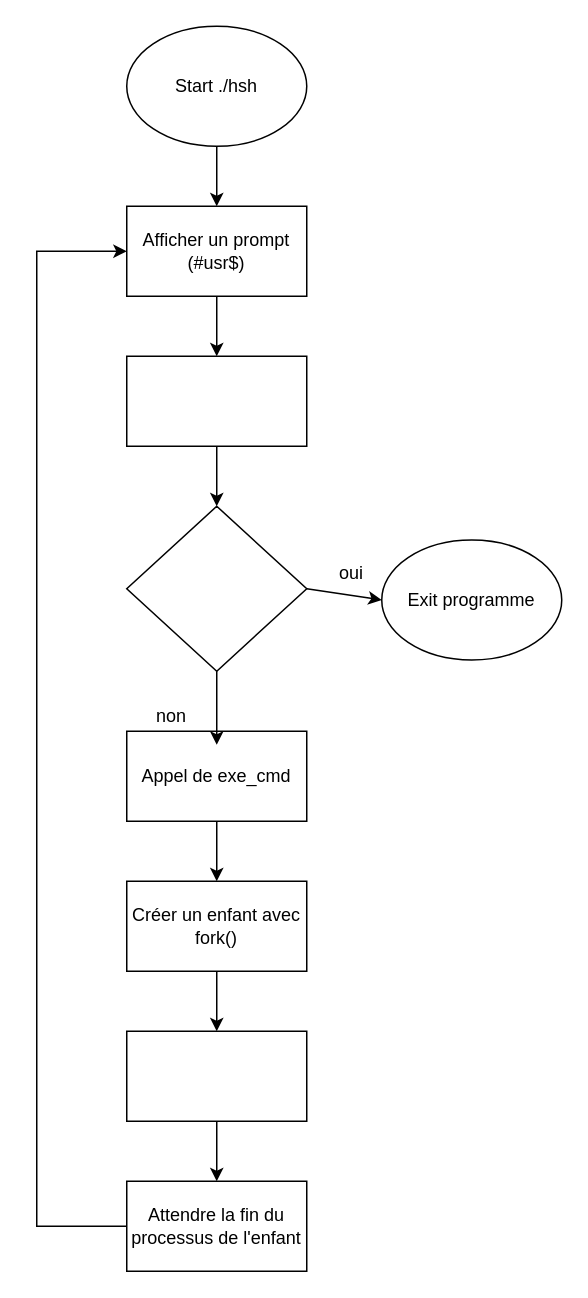
Image size: 588x1298. Some labels were removed from this diagram. Here are the shapes that lost their labels. From the top down, the centre of each, then its label:
point 216,400: Lire la commande sur l'entrée standard
point 216,588: L'entrée est vide ?
point 216,1075: Exécuter la commande
